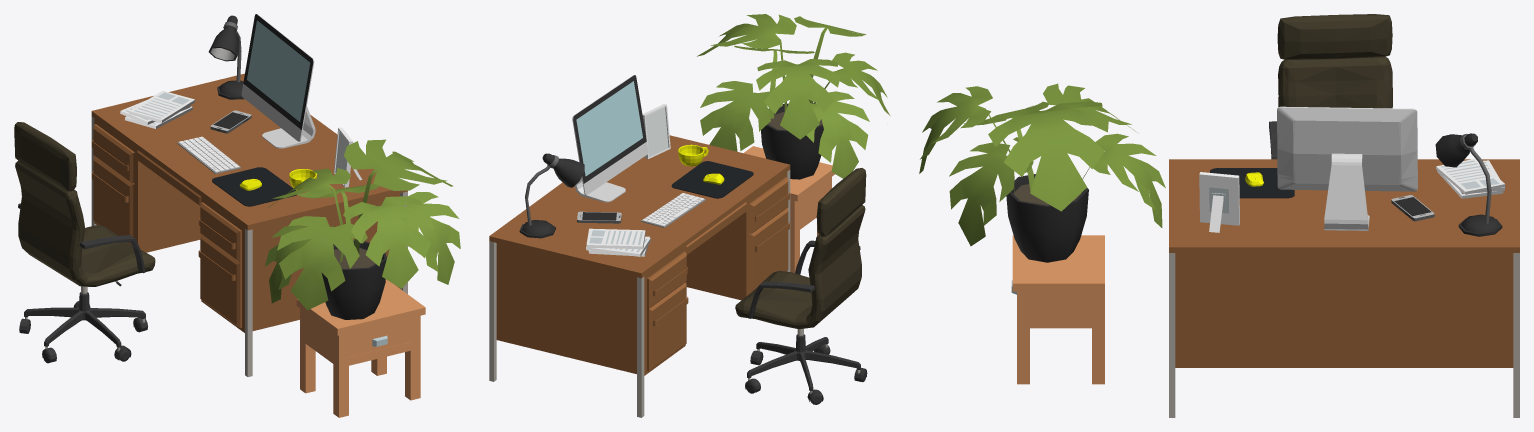
The model's file is desk1.glb.
3 views of the same model, side by side, from view 1: azimuth 30°, elevation 25°; view 2: azimuth 150°, elevation 25°; view 3: azimuth 270°, elevation 25° (orthographic). The views are drawn at different scales.
Visible parts, largest first — view 1: Node.003, Houseplant-bfLOqIV5uP, Chair.003, Cabinet Bed Drawer Tabl, Monitor.001|iMac|Dupli|, Mousepad, Paper, Light Desk.001, Blank Picture Frame|Node.007|Dupli|, Phone; view 2: Node.003, Houseplant-bfLOqIV5uP, Chair.003, Monitor.001|iMac|Dupli|, Cabinet Bed Drawer Tabl, Mousepad, Light Desk.001, Paper, Blank Picture Frame|Node.007|Dupli|, Cup.001|Cup|Dupli|, Phone; view 3: Node.003, Houseplant-bfLOqIV5uP, Monitor.001|iMac|Dupli|, Chair.003, Cabinet Bed Drawer Tabl, Blank Picture Frame|Node.007|Dupli|, Light Desk.001, Paper, Mousepad, Phone.
Boxes of the visible parts, x1,y1,x2,y2 form: Node.003: (91, 73, 407, 376); Houseplant-bfLOqIV5uP: (265, 139, 460, 319); Chair.003: (14, 122, 155, 363); Cabinet Bed Drawer Tabl: (296, 279, 425, 417); Monitor.001|iMac|Dupli|: (241, 14, 315, 148); Mousepad: (212, 167, 296, 206); Paper: (120, 90, 195, 128); Light Desk.001: (208, 15, 244, 99); Blank Picture Frame|Node.007|Dupli|: (333, 127, 362, 187); Phone: (210, 110, 251, 133); Node.003: (489, 135, 790, 417); Houseplant-bfLOqIV5uP: (697, 14, 890, 179); Chair.003: (735, 168, 867, 404); Monitor.001|iMac|Dupli|: (572, 75, 648, 202); Cabinet Bed Drawer Tabl: (743, 146, 834, 272); Mousepad: (671, 161, 753, 198); Light Desk.001: (519, 153, 584, 238); Paper: (586, 228, 650, 256); Blank Picture Frame|Node.007|Dupli|: (642, 104, 670, 159); Cup.001|Cup|Dupli|: (678, 144, 708, 166); Phone: (577, 211, 621, 223); Node.003: (1169, 159, 1519, 417); Houseplant-bfLOqIV5uP: (919, 83, 1165, 262); Monitor.001|iMac|Dupli|: (1277, 106, 1417, 230); Chair.003: (1269, 14, 1392, 159); Cabinet Bed Drawer Tabl: (1011, 235, 1104, 384); Blank Picture Frame|Node.007|Dupli|: (1199, 172, 1239, 232); Light Desk.001: (1435, 133, 1502, 236); Paper: (1436, 158, 1505, 198); Mousepad: (1210, 168, 1294, 198); Phone: (1391, 195, 1434, 221).
Bounding box in the file's own units: 1.93 × 1.56 × 2.97.
32 materials, 3 textured.
